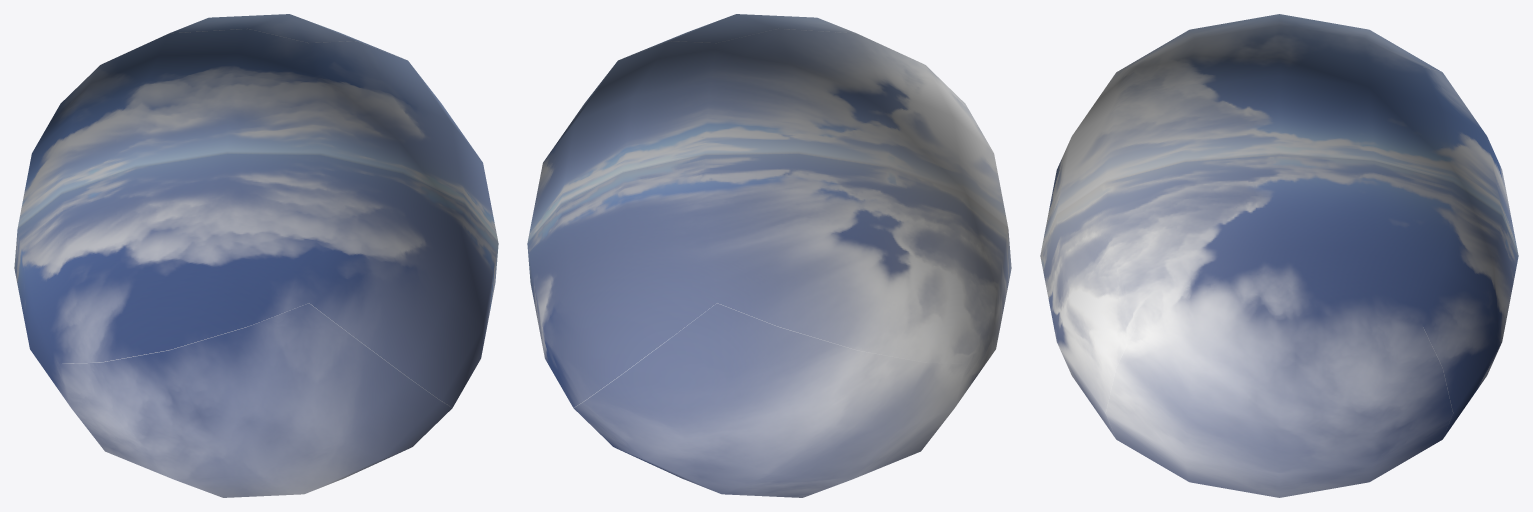
Rendered from skybox try.gltf.
The picture shows the model from 3 angles, left to right: view 1: azimuth 30°, elevation 25°; view 2: azimuth 150°, elevation 25°; view 3: azimuth 270°, elevation 25°; orthographic projection.
Visible parts, largest first — view 1: Cube; view 2: Cube; view 3: Cube.
Part boxes in pixels (left/top/right/bottom): Cube: left=14, top=14, right=498, bottom=497; Cube: left=527, top=14, right=1011, bottom=497; Cube: left=1040, top=14, right=1518, bottom=497.
Size of the model in its own units: 8.64 by 8.64 by 8.64.
Materials: 1 (1 with a texture image).
